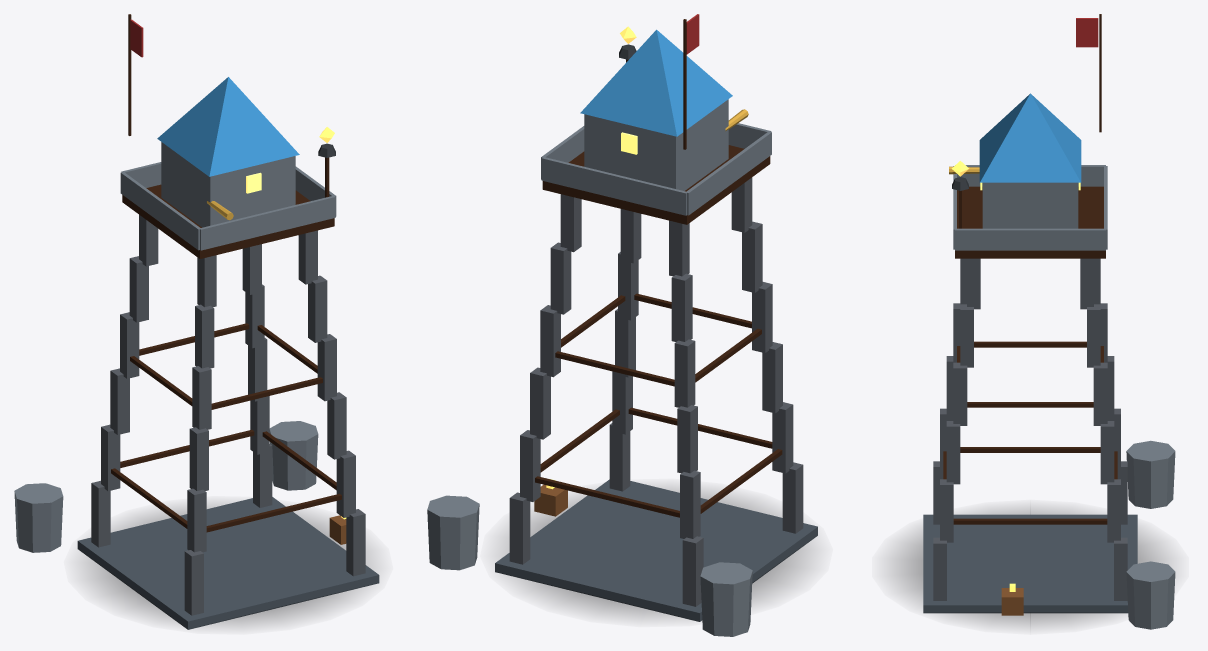
The model's file is scout_tower_t2.glb.
3 views of the same model, side by side, from view 1: azimuth 30°, elevation 25°; view 2: azimuth 150°, elevation 25°; view 3: azimuth 270°, elevation 25° (orthographic). The views are drawn at different scales.
Visible parts, largest first — view 1: scout_tower_t2; view 2: scout_tower_t2; view 3: scout_tower_t2.
Part boxes in pixels (bbox=[...]): scout_tower_t2: bbox=[14, 14, 379, 629]; scout_tower_t2: bbox=[427, 14, 817, 636]; scout_tower_t2: bbox=[892, 14, 1175, 629].
Size of the model in its own units: 7.5 by 12.96 by 7.32.
